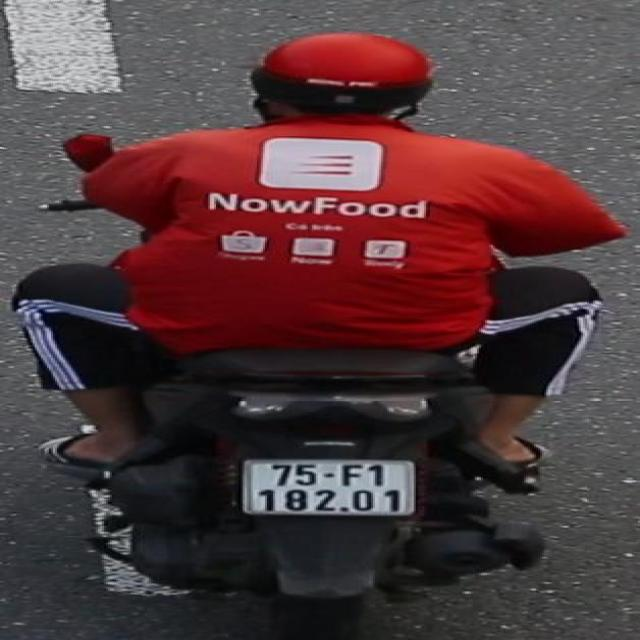LP: (234, 452, 426, 522)
helmet: (237, 27, 443, 125)
